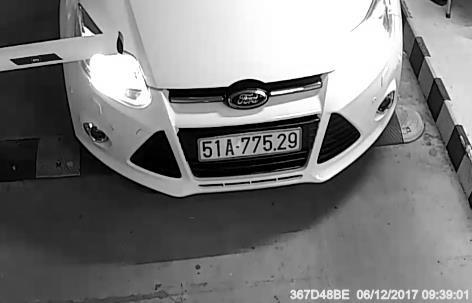License-plate: (197, 126, 307, 171)
